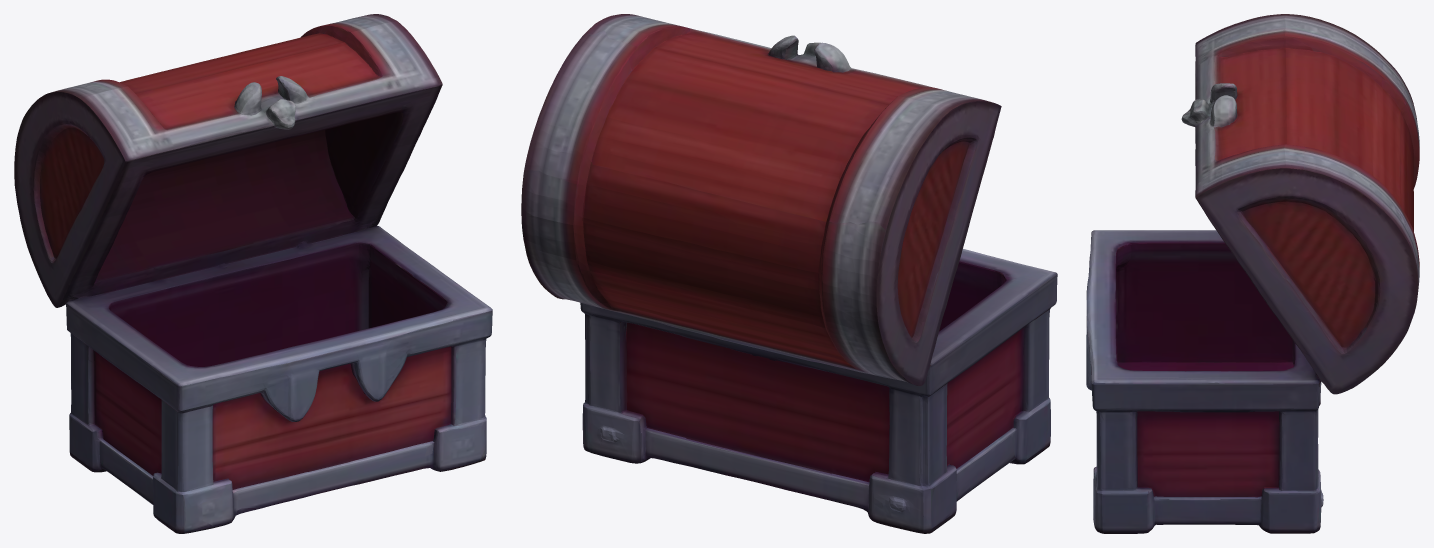
File: open_treasure_chest.glb
3 renders of one model, left to right at view 1: azimuth 30°, elevation 25°; view 2: azimuth 150°, elevation 25°; view 3: azimuth 270°, elevation 25°, orthographic. The views are drawn at different scales.
Parts seen in each view (by area): view 1: world.001; view 2: world.001; view 3: world.001.
Part boxes in pixels (left/top/right/bottom): world.001: left=14, top=14, right=492, bottom=533; world.001: left=521, top=14, right=1057, bottom=533; world.001: left=1086, top=14, right=1419, bottom=533.
Bounding box in the file's own units: 0.8967 × 0.9981 × 0.8164.
Materials: 1 (1 with a texture image).
